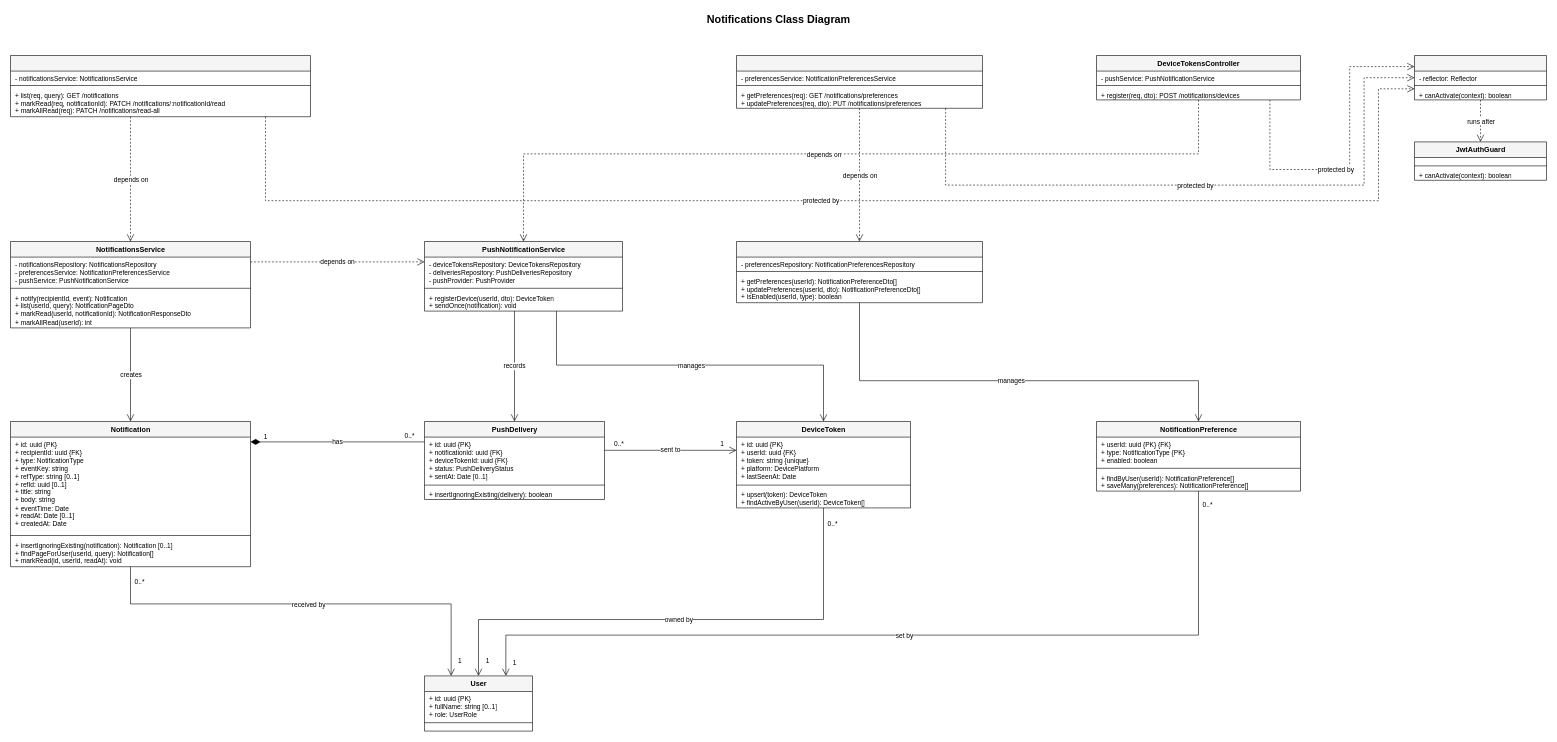
This 1557x742 diagram has some shape labels left out. The box of each missing label's shape, as (x1, y1, x2, y2) in pixels:
NotificationPreferencesController: (736, 55, 982, 108)
NotificationPreferencesService: (736, 241, 982, 303)
NotificationsController: (10, 55, 310, 117)
RolesGuard: (1414, 55, 1546, 100)
